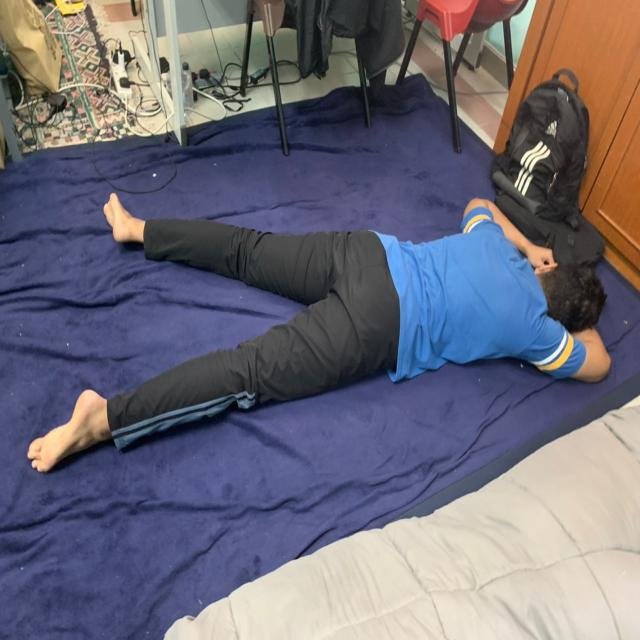Fall-Detected: (26, 190, 608, 468)
